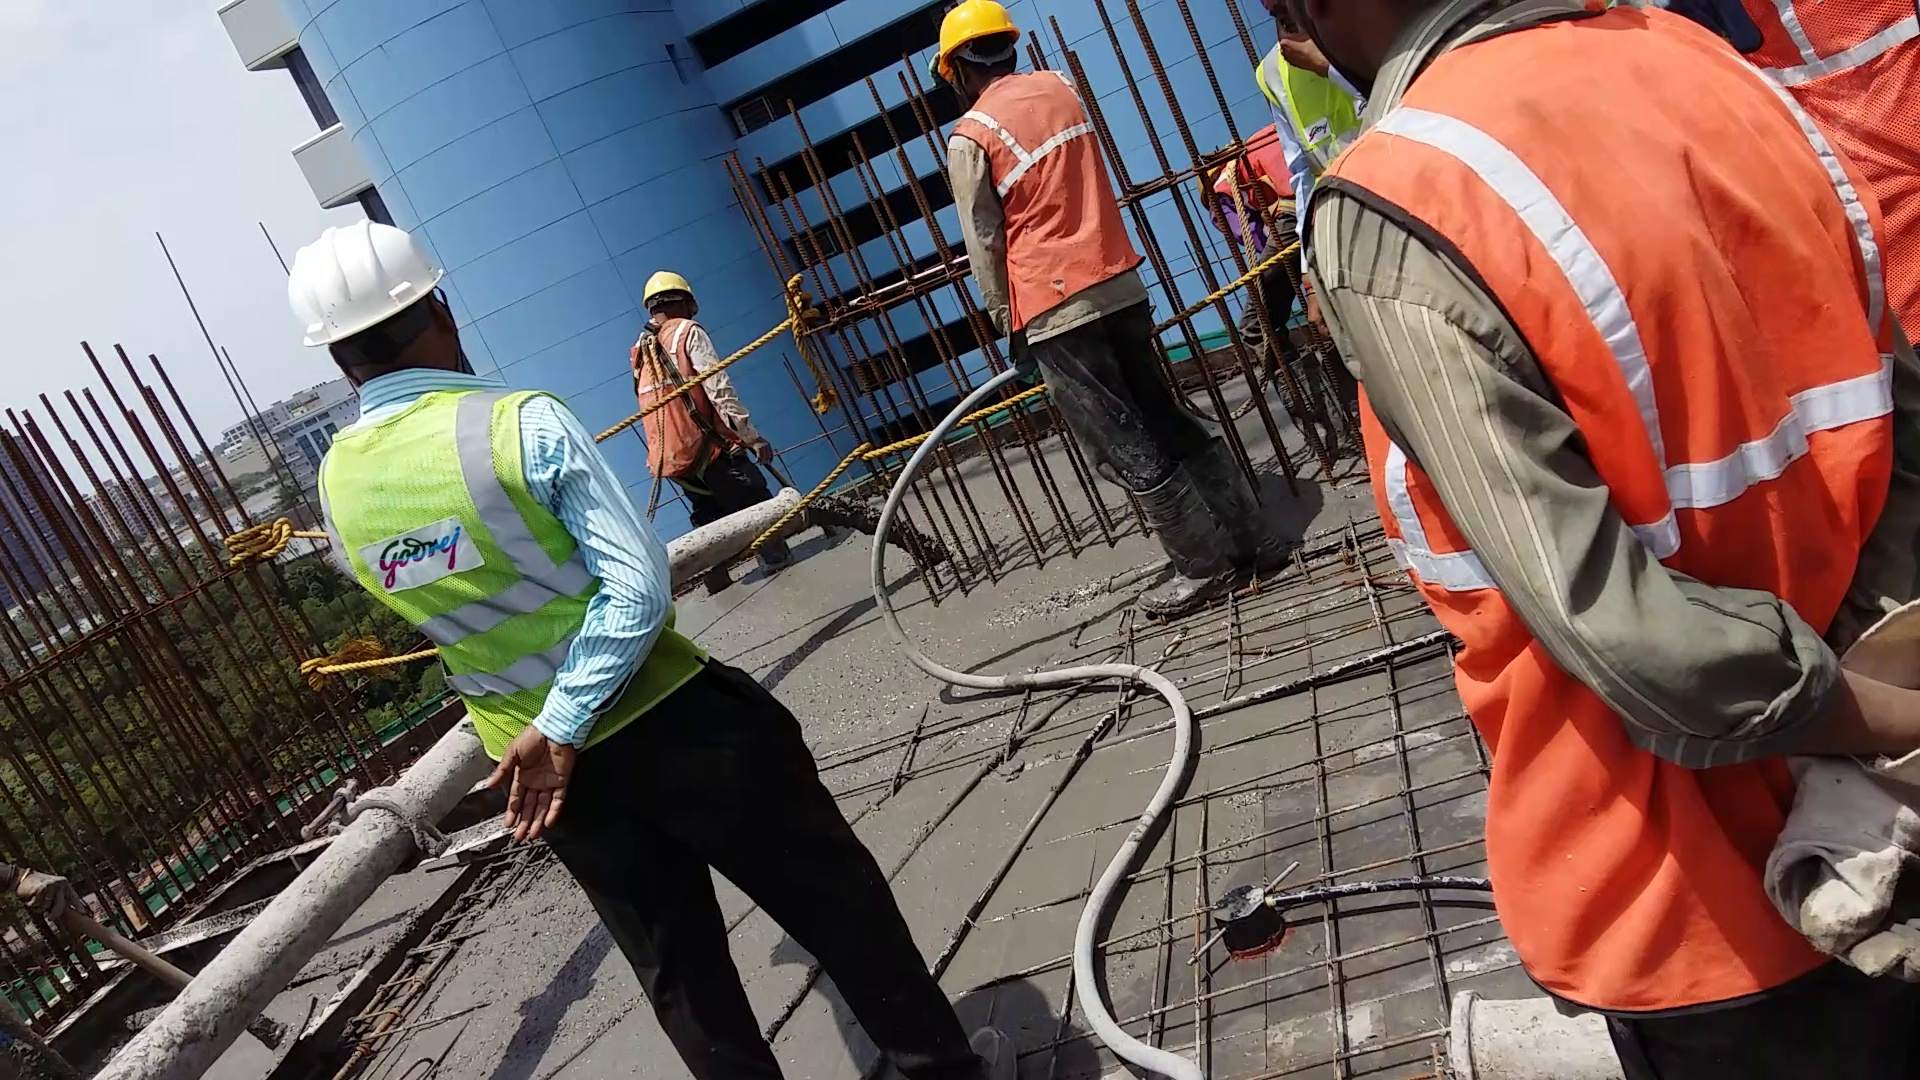NoHardhat: (1298, 16, 1920, 1015)
SAFE: (287, 211, 712, 828), (930, 1, 1153, 363)
